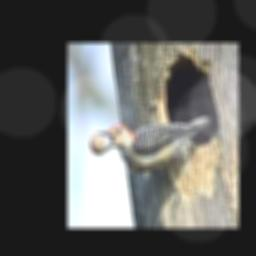Woodpecker: (95, 115, 211, 173)
